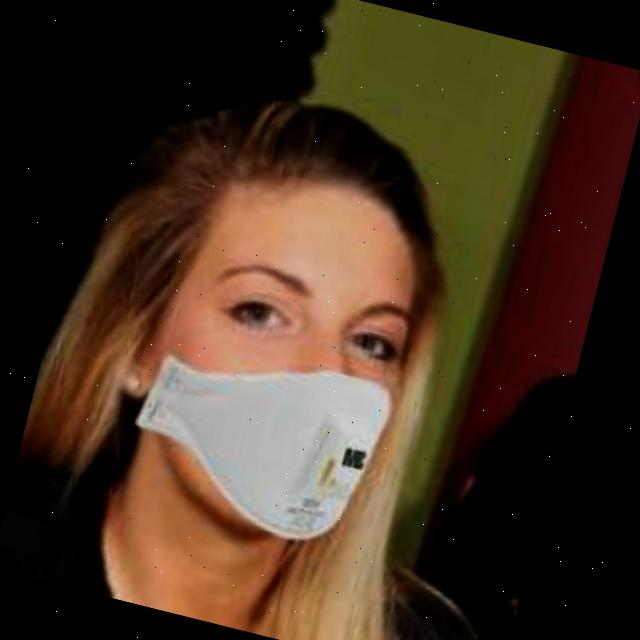suspicion: (67, 68, 468, 562)
